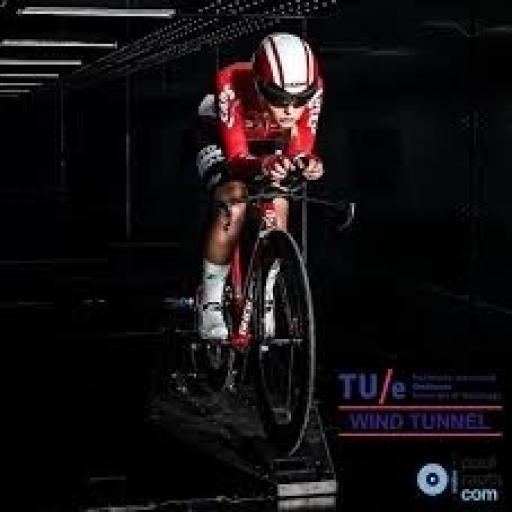cycling: (190, 30, 332, 348)
